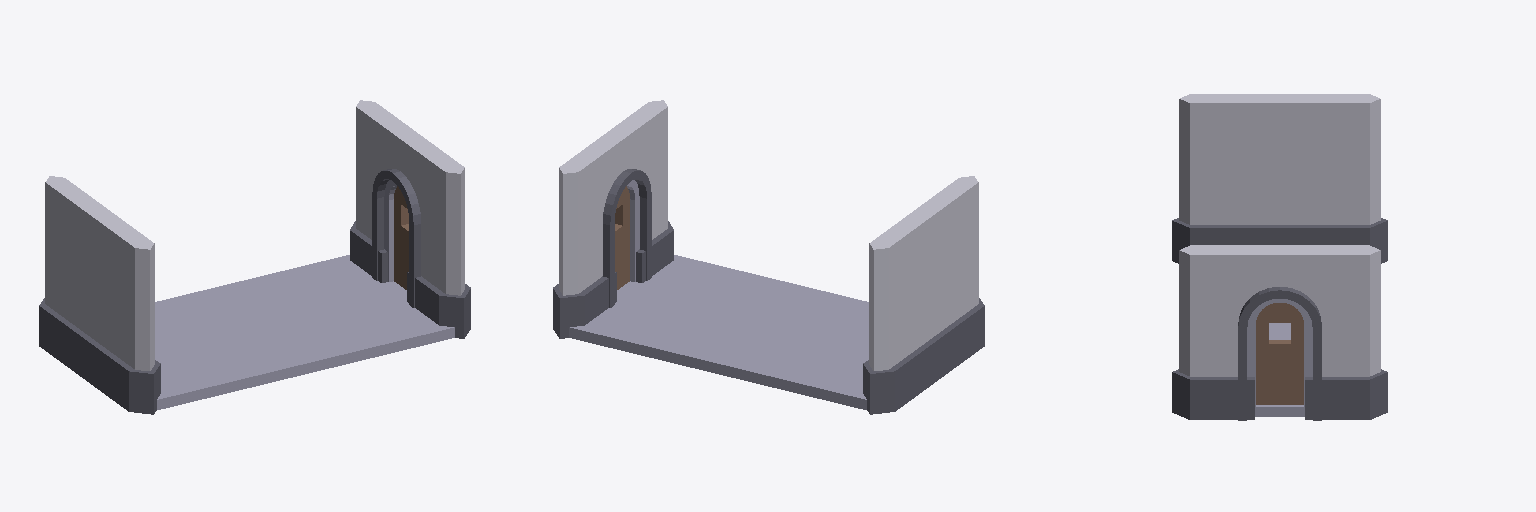
The model's file is hallway_short_08.obj.
3 renders of one model, left to right at view 1: azimuth 30°, elevation 25°; view 2: azimuth 150°, elevation 25°; view 3: azimuth 270°, elevation 25°, orthographic.
Visible parts, largest first — view 1: floor_04_108, wall_01_110, door_01_111; view 2: floor_04_108, wall_01_110, door_01_111; view 3: door_01_111, wall_01_110, floor_04_108.
Boxes of the visible parts, <box> form: floor_04_108: <box>155,255,454,409</box>; wall_01_110: <box>39,176,160,414</box>; door_01_111: <box>350,100,470,338</box>; floor_04_108: <box>569,255,868,409</box>; wall_01_110: <box>863,176,984,414</box>; door_01_111: <box>553,100,673,338</box>; door_01_111: <box>1172,245,1387,420</box>; wall_01_110: <box>1172,94,1387,263</box>; floor_04_108: <box>1256,323,1303,409</box>.
Size of the model in its own units: 2.21 by 1 by 1.21.